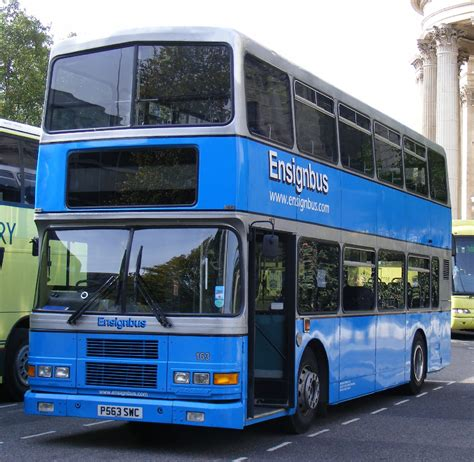bus: (37, 37, 453, 421)
